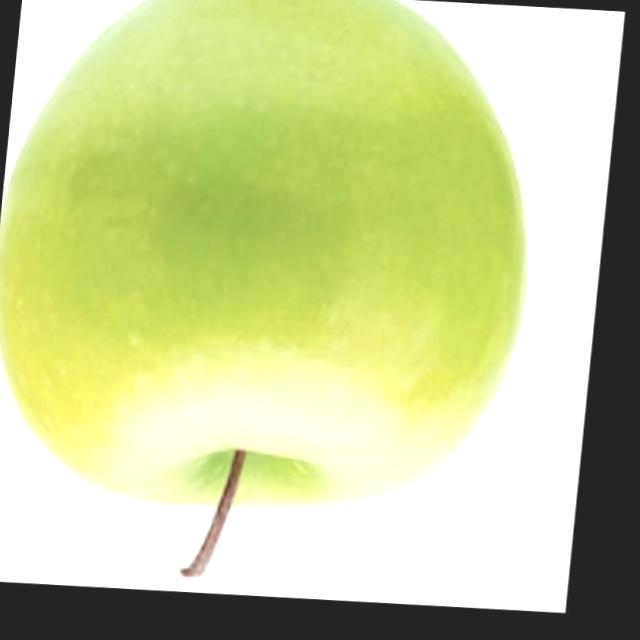Apple: (0, 0, 556, 604)
